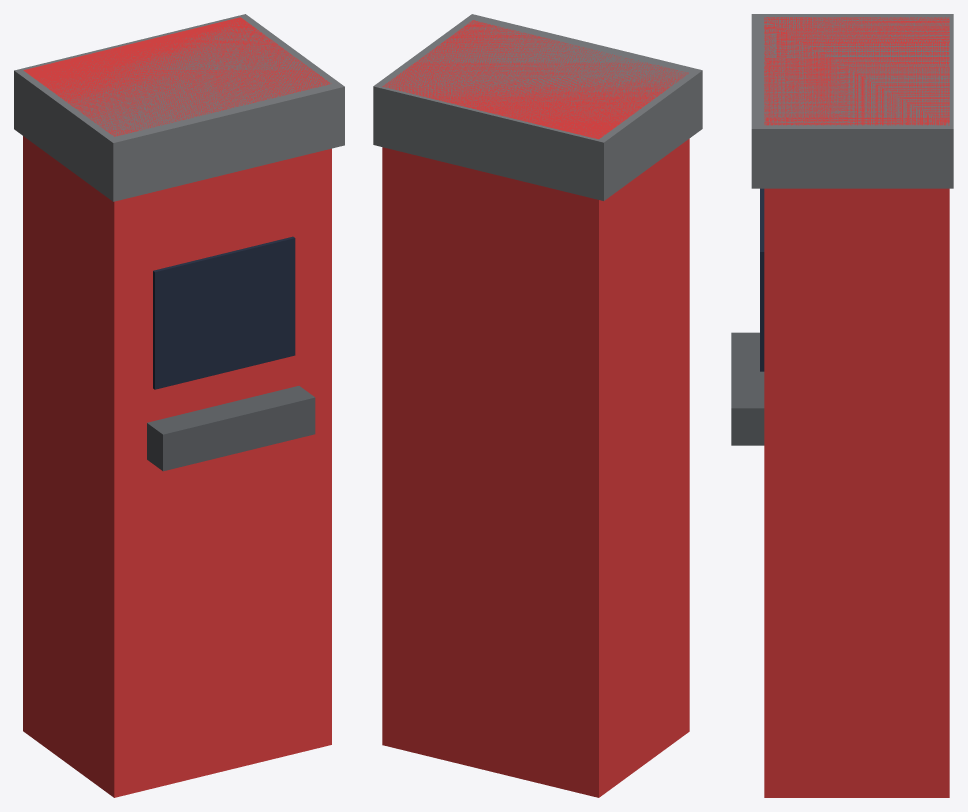
The model's file is sbb-ticket-machine.gltf.
3 views of the same model, side by side, from view 1: azimuth 30°, elevation 25°; view 2: azimuth 150°, elevation 25°; view 3: azimuth 270°, elevation 25° (orthographic). The views are drawn at different scales.
Parts seen in each view (by area): view 1: sbb-ticket-machine; view 2: sbb-ticket-machine; view 3: sbb-ticket-machine.
Part boxes in pixels (<box>): sbb-ticket-machine: <box>14,14,344,797</box>; sbb-ticket-machine: <box>373,14,702,797</box>; sbb-ticket-machine: <box>731,14,953,797</box>.
Size of the model in its own units: 0.66 by 1.8 by 0.54.
